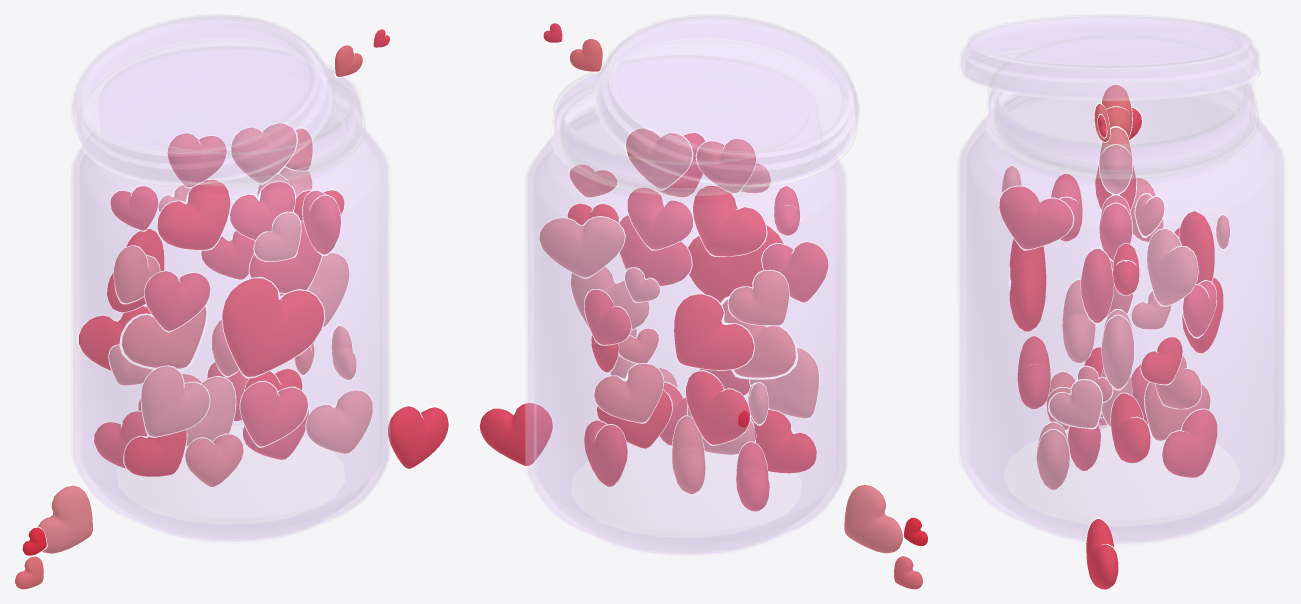
3 views of the same model, side by side, from view 1: azimuth 30°, elevation 25°; view 2: azimuth 150°, elevation 25°; view 3: azimuth 270°, elevation 25° (orthographic). The views are drawn at different scales.
Visible parts, largest first — view 1: Object_7, Object_5, Object_6, Object_8, Object_4, Object_2, Object_3; view 2: Object_7, Object_5, Object_6, Object_8, Object_4, Object_2, Object_3; view 3: Object_7, Object_5, Object_6, Object_4, Object_8, Object_2, Object_3.
Boxes of the visible parts, x1=… form: Object_7: x1=70, y1=14, x2=390, y2=543; Object_5: x1=15, y1=45, x2=448, y2=589; Object_6: x1=79, y1=29, x2=389, y2=445; Object_8: x1=77, y1=24, x2=361, y2=194; Object_4: x1=116, y1=425, x2=344, y2=524; Object_2: x1=37, y1=28, x2=390, y2=554; Object_3: x1=14, y1=44, x2=449, y2=589; Object_7: x1=525, y1=14, x2=859, y2=556; Object_5: x1=479, y1=39, x2=927, y2=589; Object_6: x1=539, y1=23, x2=846, y2=516; Object_8: x1=554, y1=24, x2=852, y2=204; Object_4: x1=571, y1=439, x2=801, y2=537; Object_2: x1=538, y1=22, x2=903, y2=554; Object_3: x1=478, y1=38, x2=928, y2=589; Object_7: x1=957, y1=14, x2=1286, y2=545; Object_5: x1=1001, y1=85, x2=1229, y2=589; Object_6: x1=999, y1=115, x2=1226, y2=482; Object_4: x1=1004, y1=425, x2=1239, y2=526; Object_8: x1=969, y1=22, x2=1254, y2=185; Object_2: x1=1008, y1=84, x2=1223, y2=491; Object_3: x1=998, y1=102, x2=1230, y2=589.
Size of the model in its own units: 3.65 by 3.86 by 2.32.
5 materials, 1 textured.
